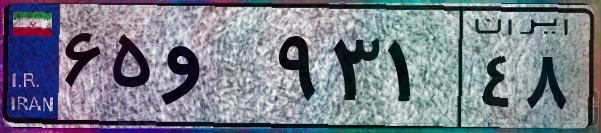1: (385, 28, 445, 110)
3: (330, 28, 385, 110)
4: (475, 38, 525, 113)
5: (110, 28, 158, 98)
6: (57, 26, 110, 100)
8: (525, 38, 570, 115)
9: (270, 28, 330, 110)
و: (158, 20, 270, 120)
